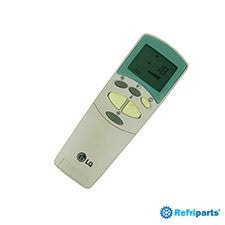remote control: (56, 26, 190, 193)
